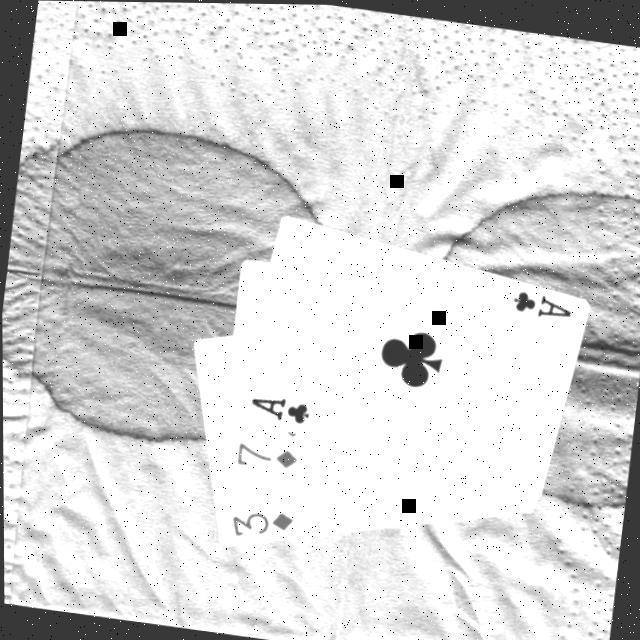3D: (223, 499, 295, 544)
7D: (230, 435, 299, 469)
AC: (504, 283, 573, 322), (243, 387, 310, 426)
